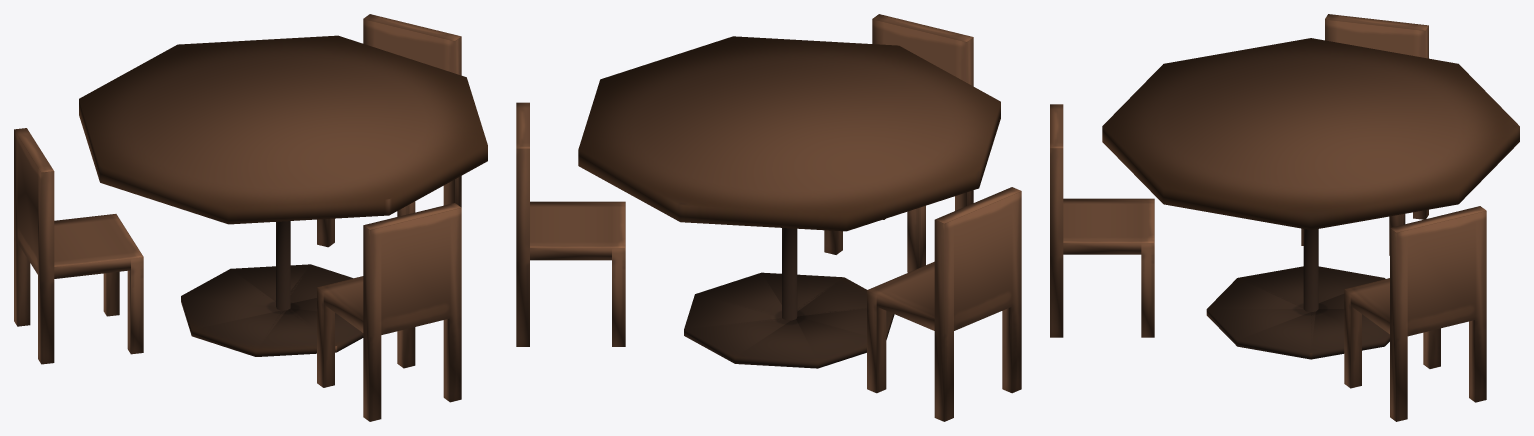
File: decor_Table.fbx
The picture shows the model from 3 angles, left to right: view 1: azimuth 30°, elevation 25°; view 2: azimuth 150°, elevation 25°; view 3: azimuth 270°, elevation 25°; orthographic projection. The views are drawn at different scales.
Visible parts, largest first — view 1: Table; view 2: Table; view 3: Table.
Boxes of the visible parts, x1=… form: Table: x1=14, y1=14, x2=487, y2=421; Table: x1=516, y1=14, x2=1021, y2=421; Table: x1=1050, y1=14, x2=1519, y2=421.
Bounding box in the file's own units: 496 × 200 × 450.
Materials: 1 (1 with a texture image).
